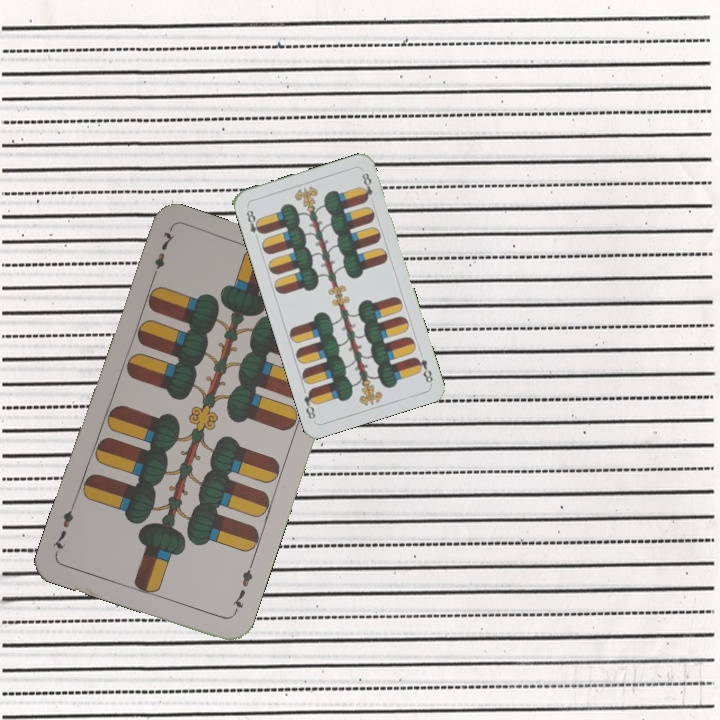E7: (147, 226, 177, 283), (228, 559, 256, 617)
E8: (410, 353, 436, 386), (242, 206, 265, 243)
